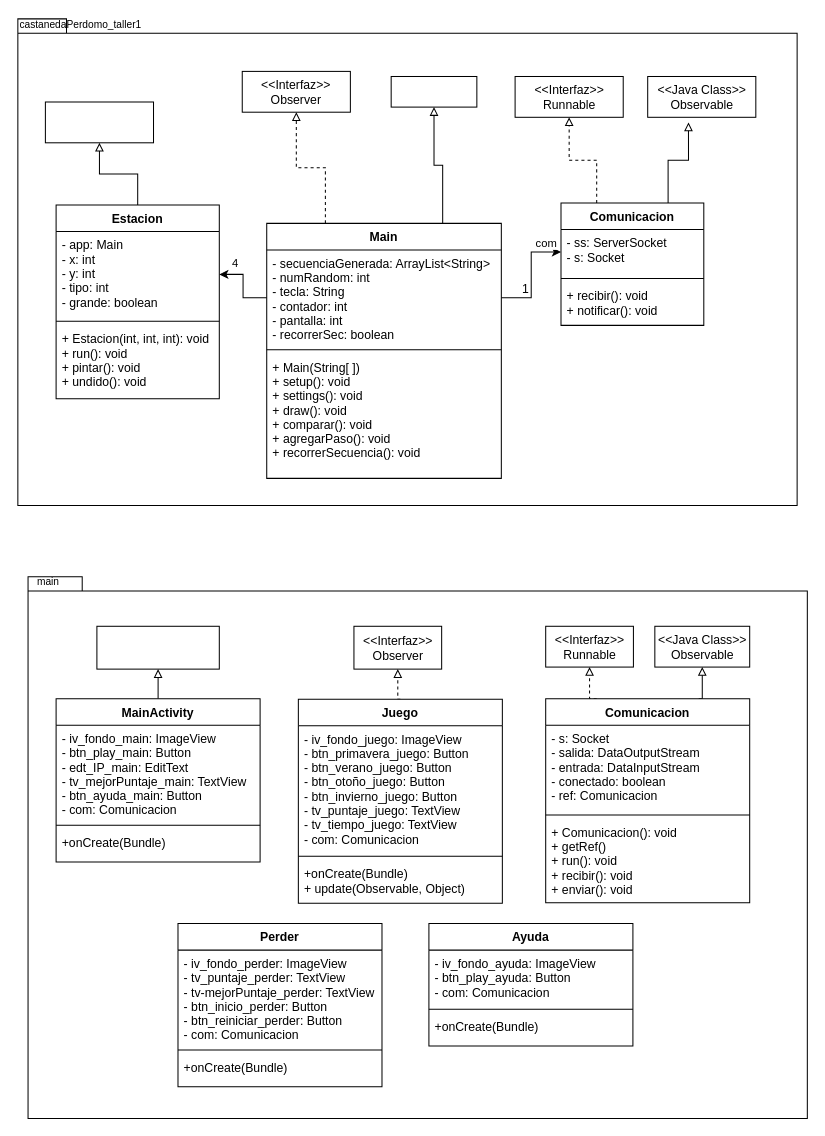
Image size: 825x1136. Some labels were removed from this diagram. The centre of each missing label's shape, as x and y in pixels:
"<<Java Class>> Thread" goes at [99,122].
"AppCompactActivity" goes at [157,647].
"PApplet" goes at [433,91].
